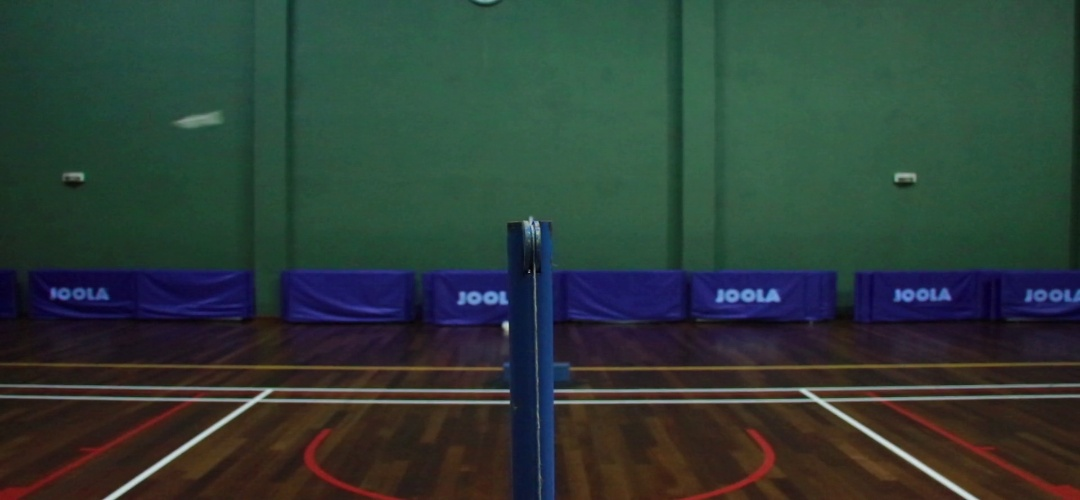c1: (236, 391, 274, 412)
c2: (799, 392, 838, 410)
net_level: (506, 220, 555, 297)
shuttle: (172, 111, 222, 133)
